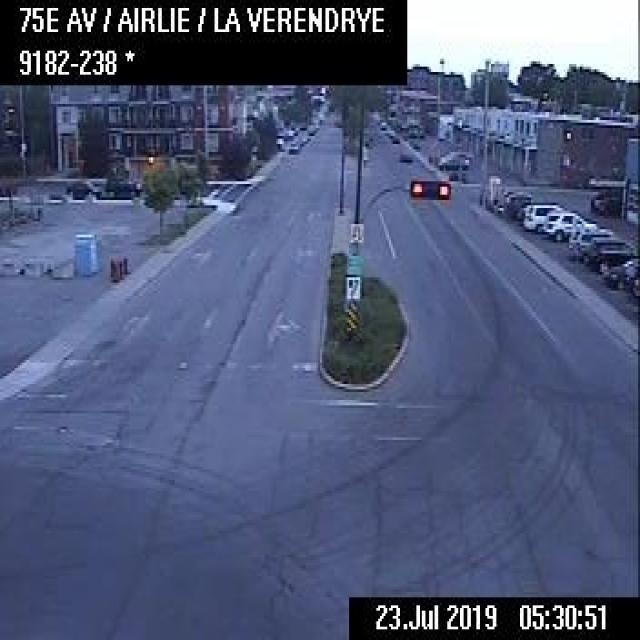construction: (110, 256, 116, 280), (121, 253, 127, 274), (116, 257, 121, 279)
vehicle: (583, 234, 638, 271), (542, 208, 596, 240), (567, 225, 612, 258), (521, 200, 563, 230), (603, 257, 638, 286), (60, 175, 99, 200), (589, 185, 621, 213), (103, 173, 141, 196), (503, 190, 533, 218), (436, 147, 471, 167), (398, 146, 411, 162), (285, 137, 299, 151), (390, 132, 399, 142)
